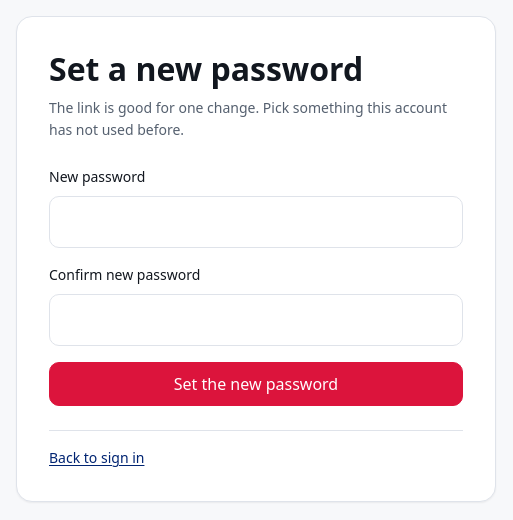
Test: ResetPasswordPage › shows a refused link as refused, with the way to get a new one
Type "BrandNewPass1!" into the password field labelled "New password" at (256, 222), box [49,196,463,248]
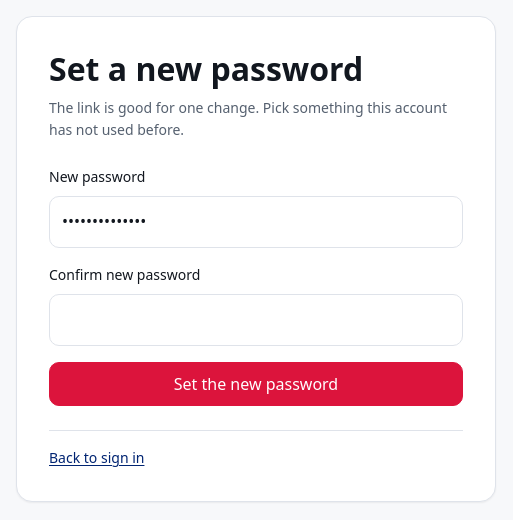
Type "BrandNewPass1!" into the password field labelled "Confirm new password" at (256, 320), box [49,294,463,346]
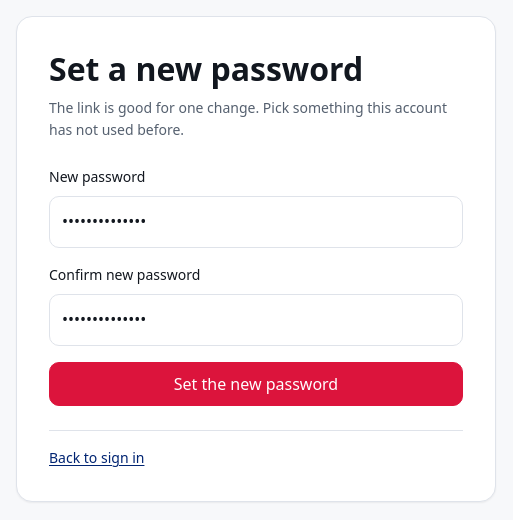
Click the button "Set the new password" at (256, 384), box [49,362,463,406]
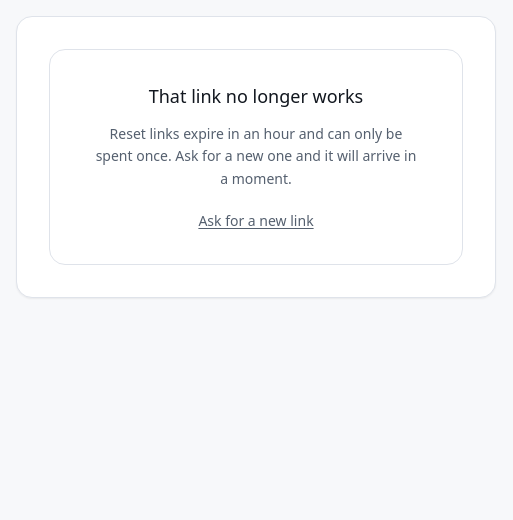
Check: the text "That link no longer works" is shown, box [149,82,363,111]
